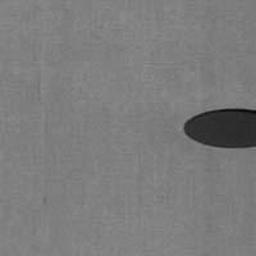Punching: (182, 108, 256, 151)
